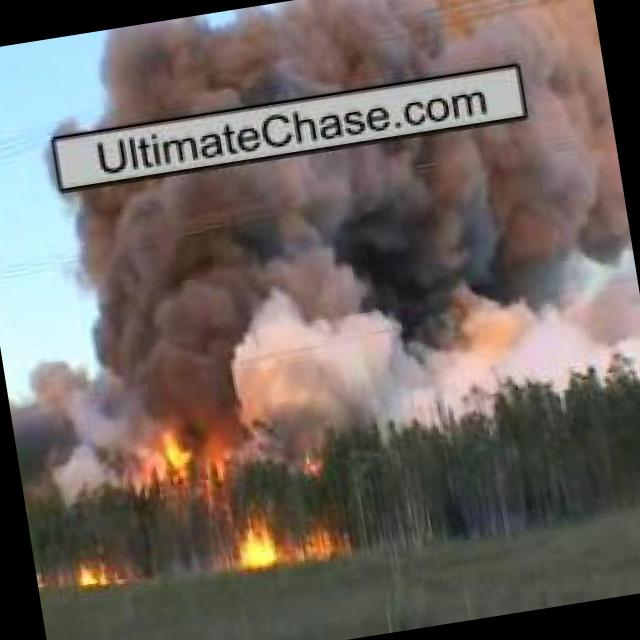Fire: (151, 416, 192, 476), (235, 512, 278, 565), (295, 526, 338, 568), (72, 552, 115, 590)
Smoke: (0, 105, 640, 482), (71, 0, 600, 124)
